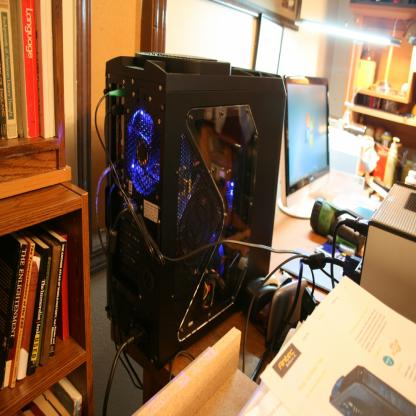book: (16, 224, 73, 378), (2, 233, 26, 387)
